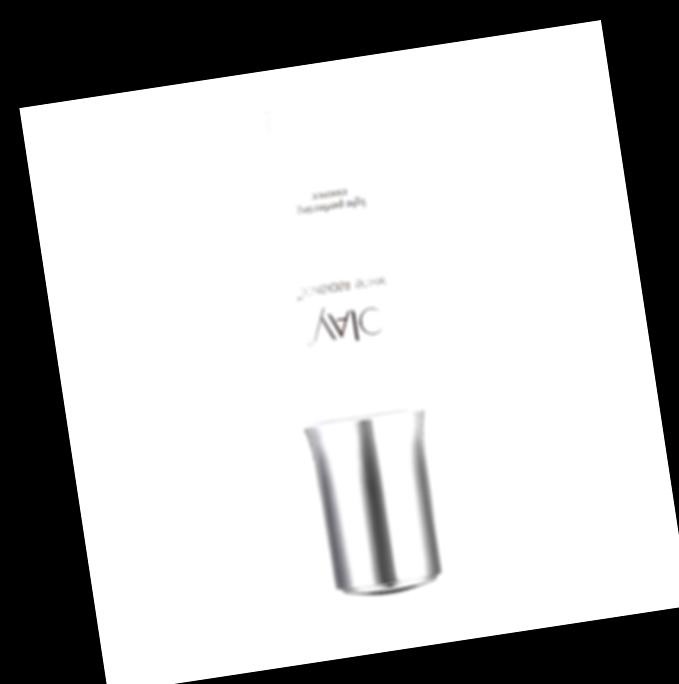cosmetic: (255, 100, 453, 605)
